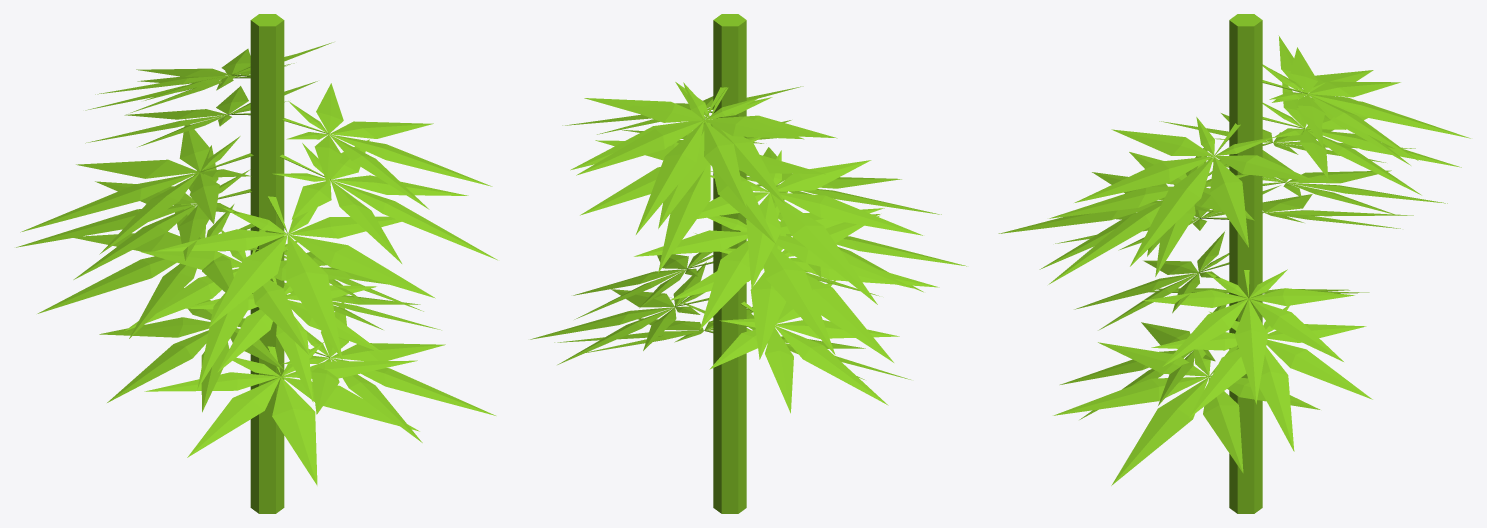
Rendered from hemp.fbx.
The picture shows the model from 3 angles, left to right: view 1: azimuth 30°, elevation 25°; view 2: azimuth 150°, elevation 25°; view 3: azimuth 270°, elevation 25°; orthographic projection.
Visible parts, largest first — view 1: hemp; view 2: hemp; view 3: hemp.
Boxes of the visible parts, x1,y1,x2,y2 form: hemp: (16, 14, 497, 513); hemp: (530, 14, 966, 513); hemp: (998, 14, 1470, 513).
Size of the model in its own units: 416 by 456 by 515.
